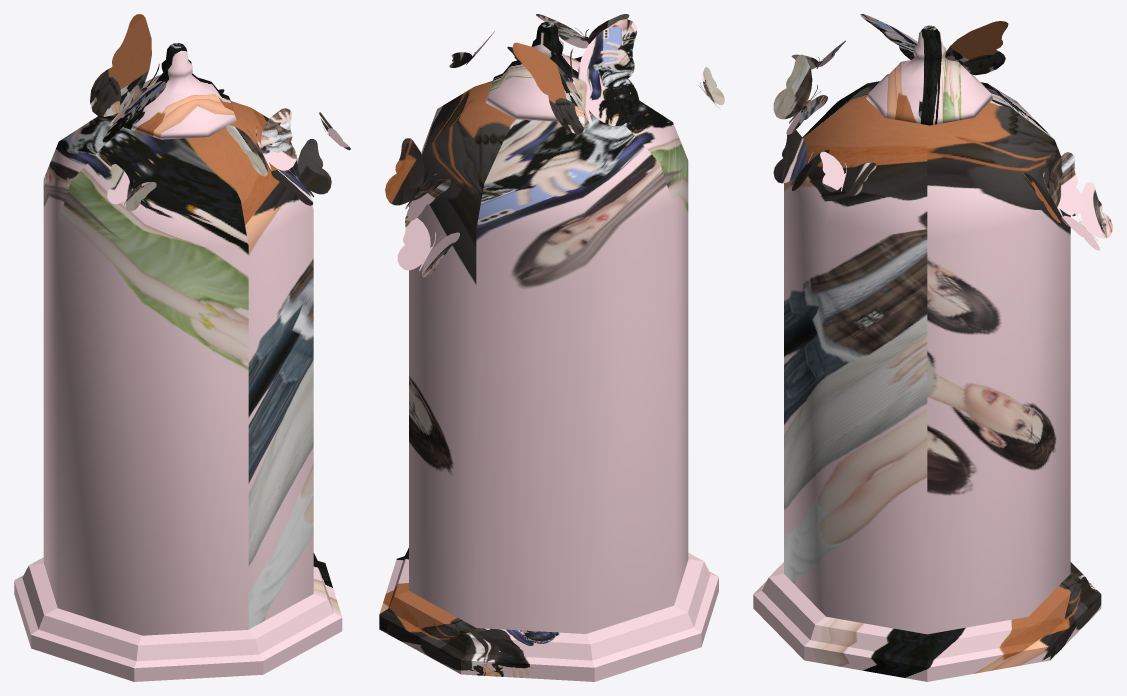
The model's file is cage_1.fbx.
The picture shows the model from 3 angles, left to right: view 1: azimuth 30°, elevation 25°; view 2: azimuth 150°, elevation 25°; view 3: azimuth 270°, elevation 25°; orthographic projection. The views are drawn at different scales.
Parts seen in each view (by area): view 1: Cylinder001.022, Cylinder001.021; view 2: Cylinder001.022, Cylinder001.021; view 3: Cylinder001.022, Cylinder001.021.
Boxes of the visible parts, <box> form: Cylinder001.022: <box>43,101,313,635</box>; Cylinder001.021: <box>14,14,350,681</box>; Cylinder001.022: <box>409,81,688,633</box>; Cylinder001.021: <box>379,14,724,681</box>; Cylinder001.022: <box>784,81,1070,634</box>; Cylinder001.021: <box>753,14,1112,681</box>.
Bounding box in the file's own units: 44.81 × 83.34 × 46.26.
